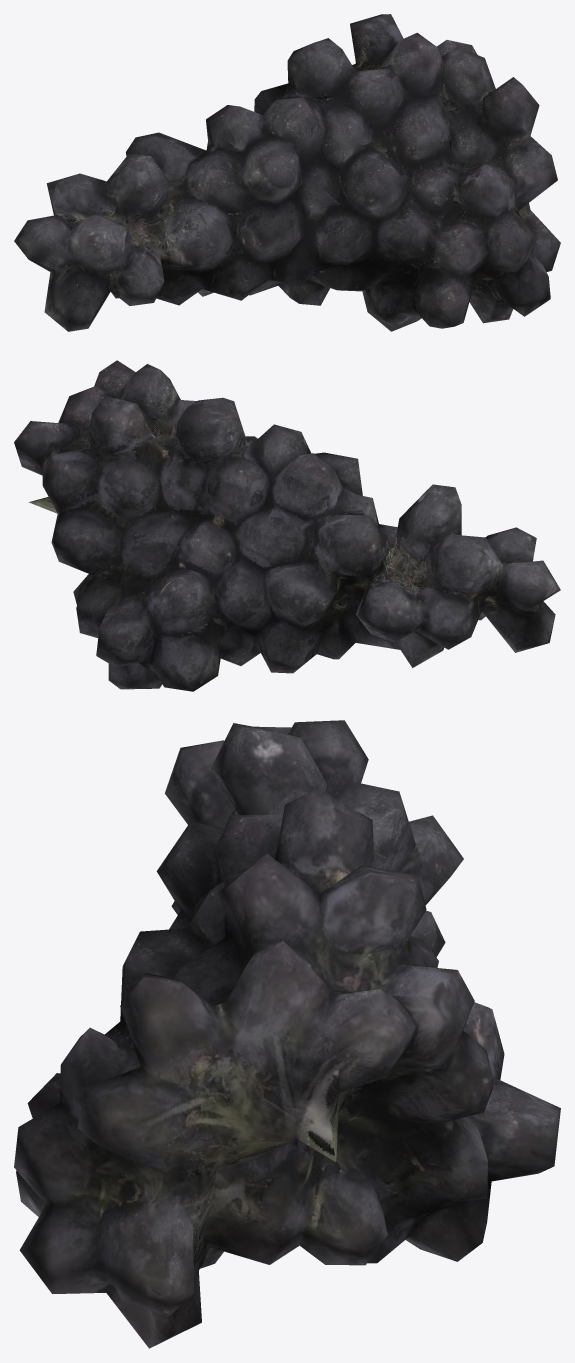
File: 25_grapes_black.glb
The picture shows the model from 3 angles, top to bottom: view 1: azimuth 30°, elevation 25°; view 2: azimuth 150°, elevation 25°; view 3: azimuth 270°, elevation 25°; orthographic projection. The views are drawn at different scales.
Visible parts, largest first — view 1: 25_grapes; view 2: 25_grapes; view 3: 25_grapes.
Boxes of the visible parts, x1=… form: 25_grapes: x1=14, y1=14, x2=560, y2=331; 25_grapes: x1=14, y1=360, x2=560, y2=691; 25_grapes: x1=14, y1=720, x2=560, y2=1348.
Size of the model in its own units: 0.9474 by 0.4908 by 0.546.
Materials: 1 (1 with a texture image).
